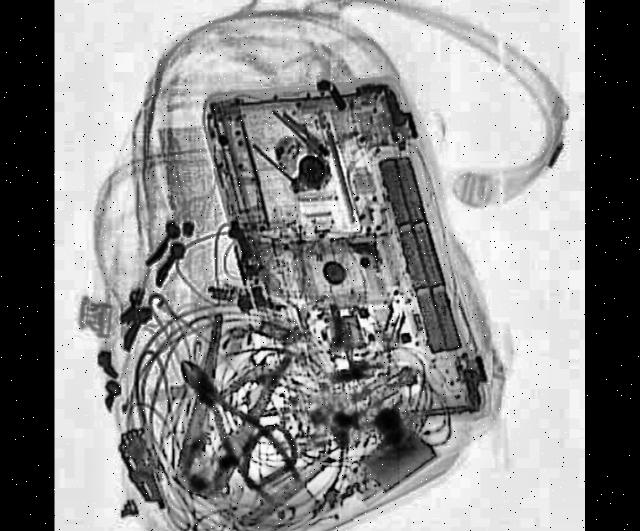Pliers: (153, 300, 294, 524), (163, 338, 302, 520)
